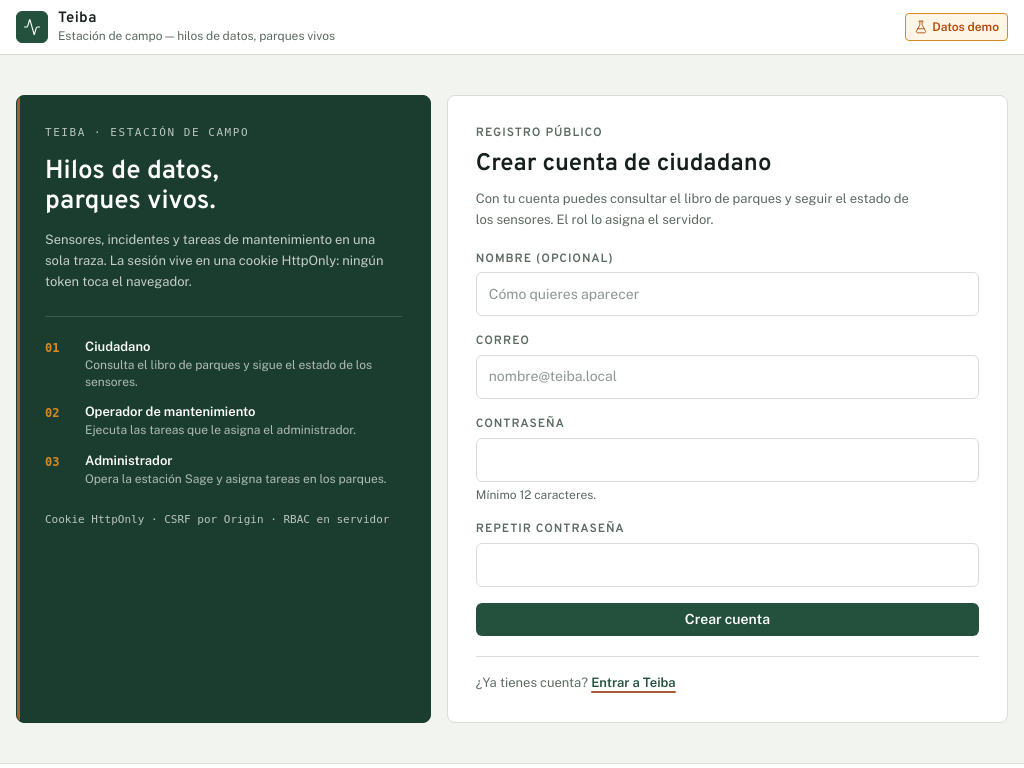
Test: RegisterView › muestra el correo duplicado sin filtrar datos internos
expect the heading "Crear cuenta de ciudadano" is shown: met, box left=476, top=149, right=771, bottom=179
Step 1. Type "nueva@teiba.local" into the field labelled "Correo" → (727, 377), box left=476, top=355, right=979, bottom=399
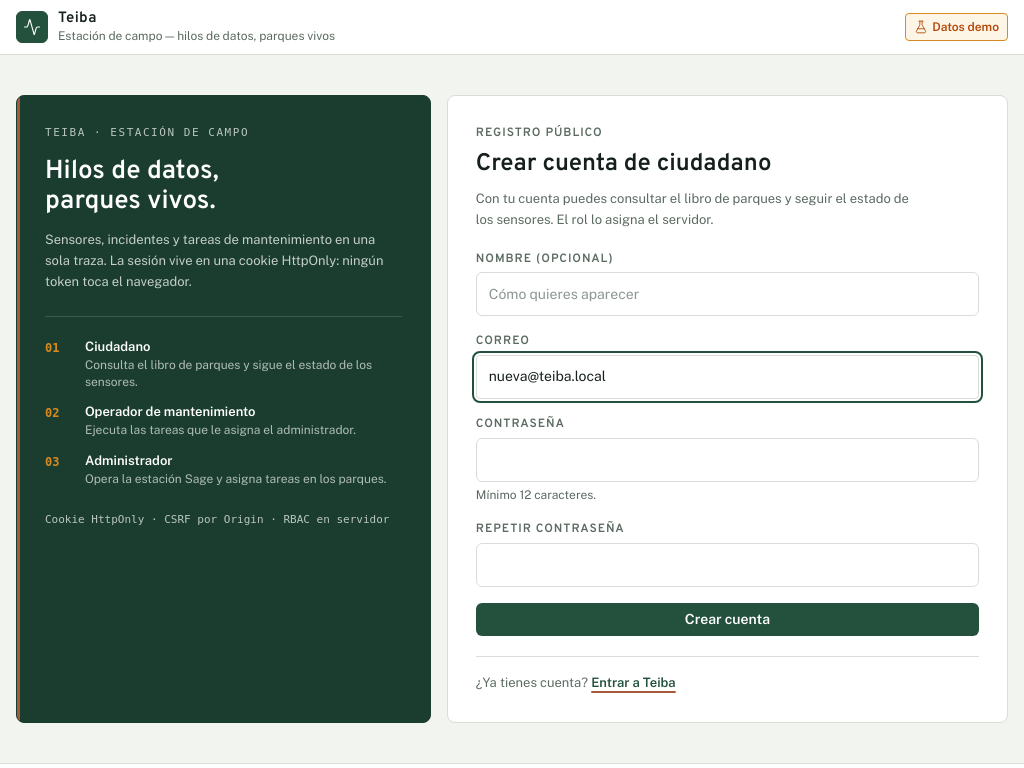
Step 2. Type "clave-segura-123" into the password field labelled "Contraseña" → (727, 460), box left=476, top=438, right=979, bottom=482
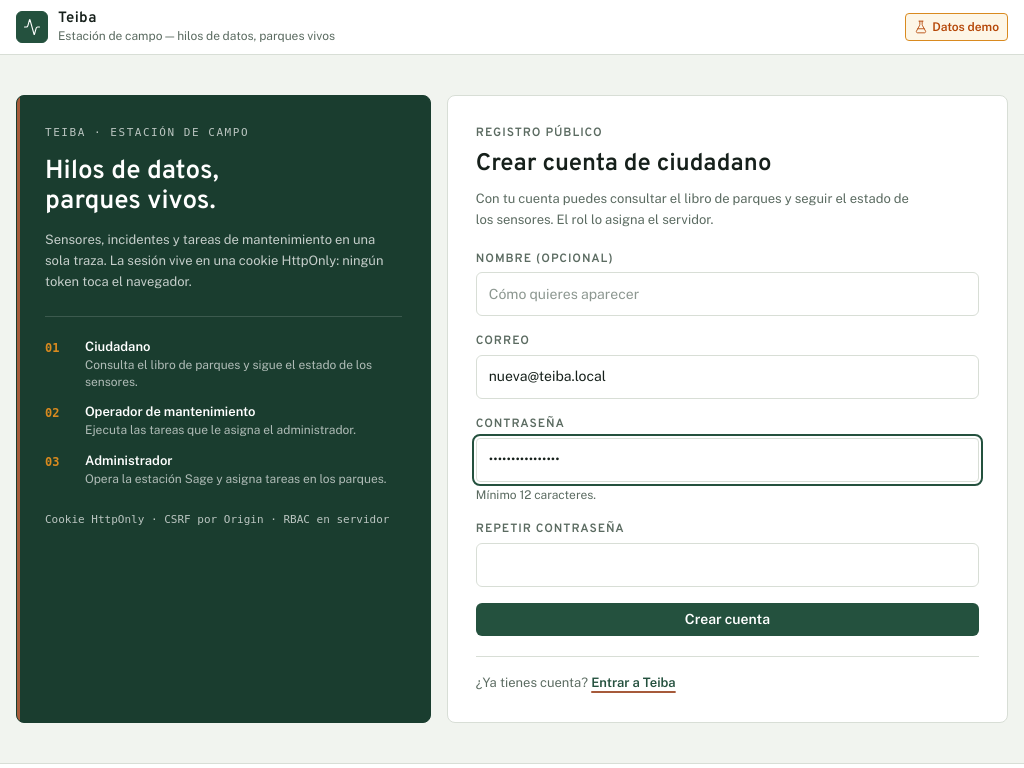
Step 3. Type "clave-segura-123" into the password field labelled "Repetir contraseña" → (727, 565), box left=476, top=543, right=979, bottom=587
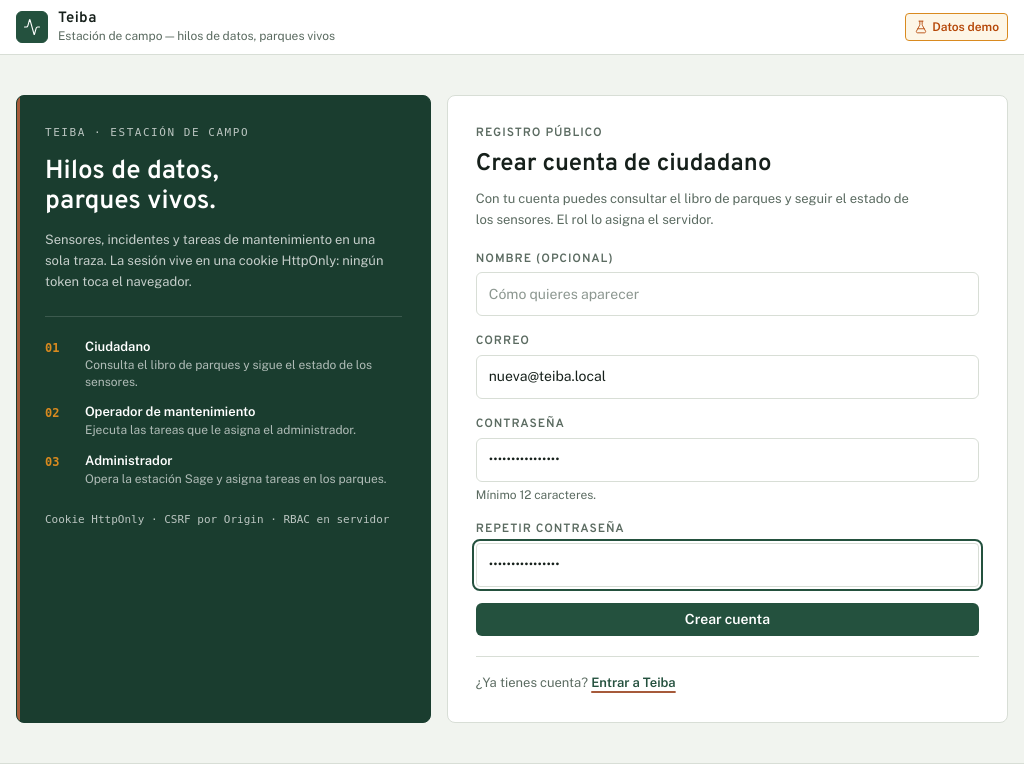
Step 4. Click the button "Crear cuenta" → (727, 620), box left=476, top=603, right=979, bottom=636
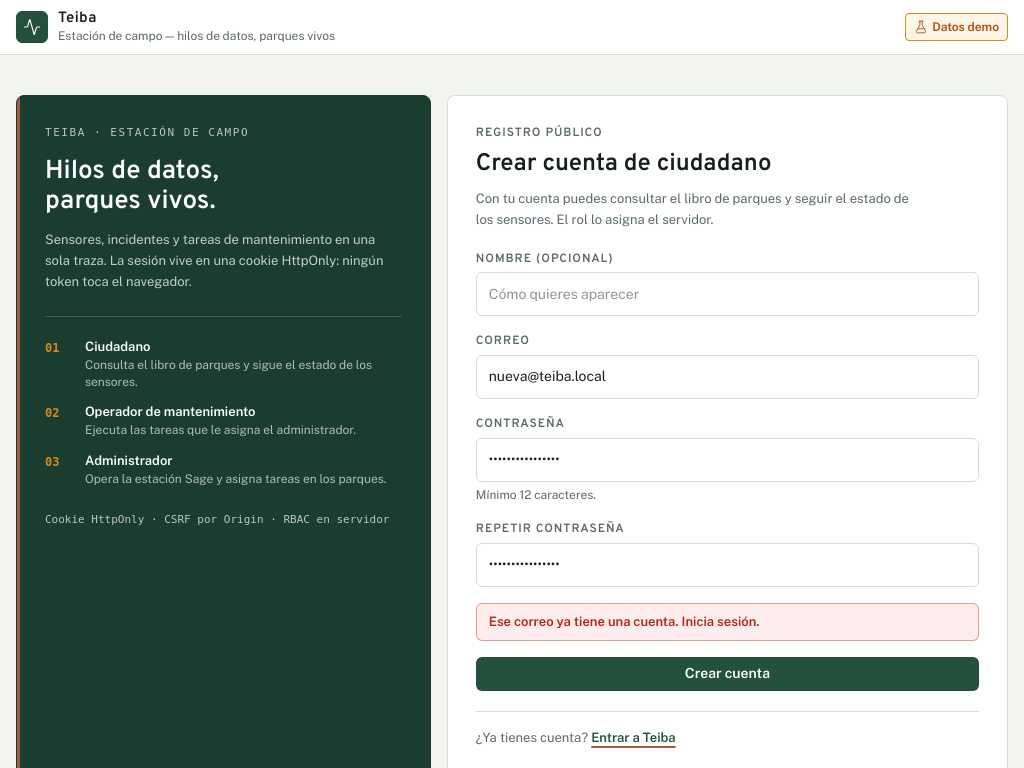
expect the message shows "ya tiene una cuenta": met, box left=489, top=614, right=760, bottom=629
